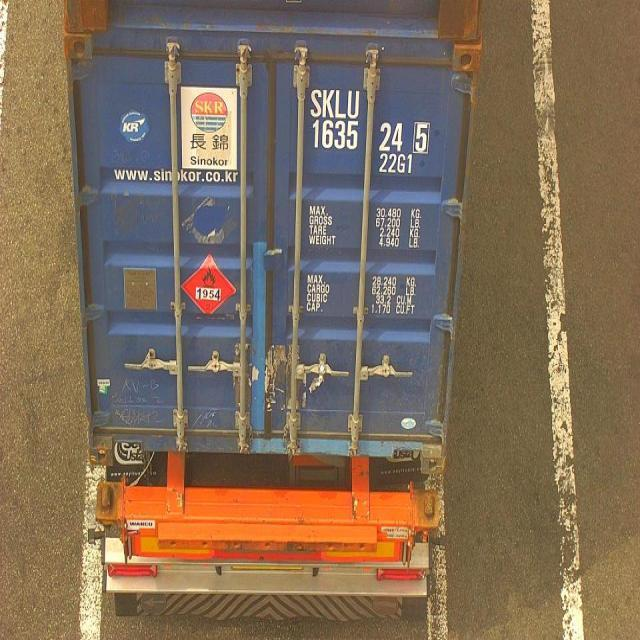ISO: (378, 154, 416, 173)
container_number: (310, 89, 434, 144)
